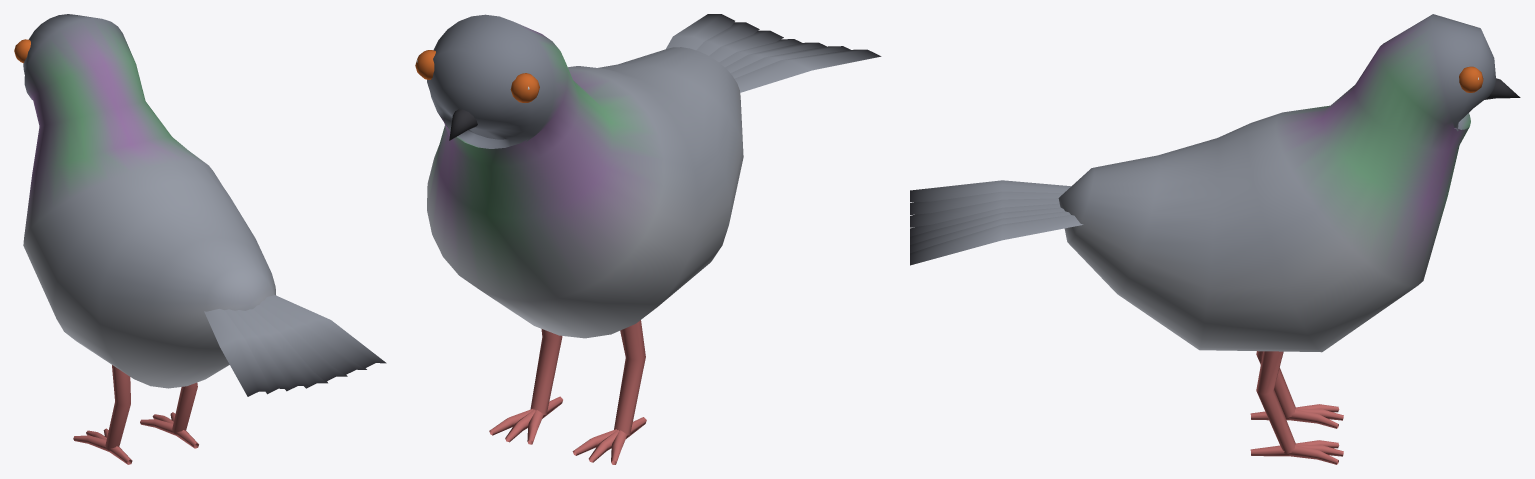
Rendered from Hato_Body.fbx.
The picture shows the model from 3 angles, left to right: view 1: azimuth 30°, elevation 25°; view 2: azimuth 150°, elevation 25°; view 3: azimuth 270°, elevation 25°; orthographic projection. The views are drawn at different scales.
Parts seen in each view (by area): view 1: Hato_Body; view 2: Hato_Body; view 3: Hato_Body.
Part boxes in pixels (box(x1,y1,x2,y2)): Hato_Body: box(14, 14, 386, 464); Hato_Body: box(415, 14, 881, 464); Hato_Body: box(910, 14, 1520, 464).
Size of the model in its own units: 4.29 by 8.43 by 11.18.
